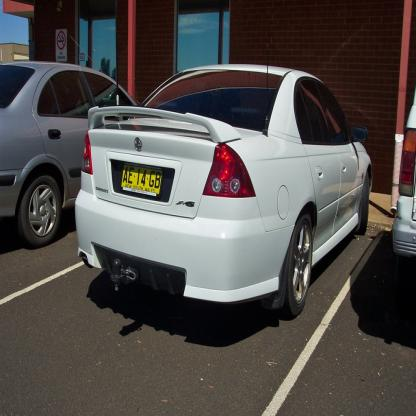Car: (86, 79, 375, 333), (1, 37, 138, 248), (393, 93, 416, 318)
